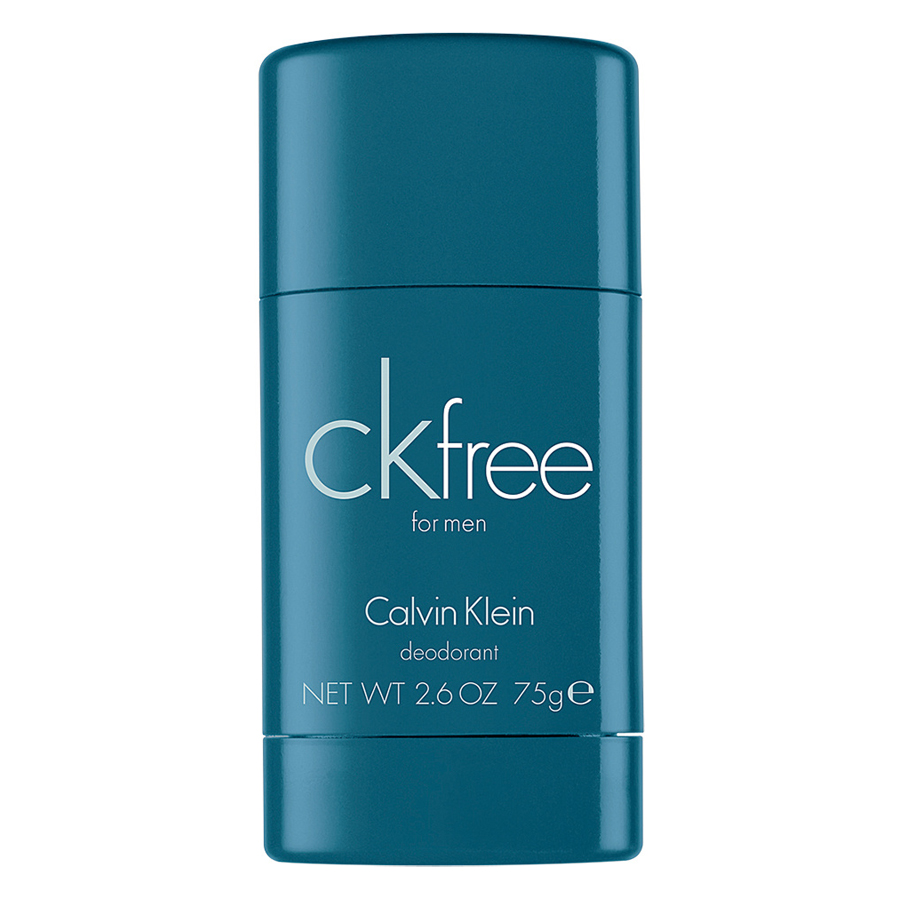Calvin Klein: (300, 351, 442, 504), (365, 584, 538, 634)
